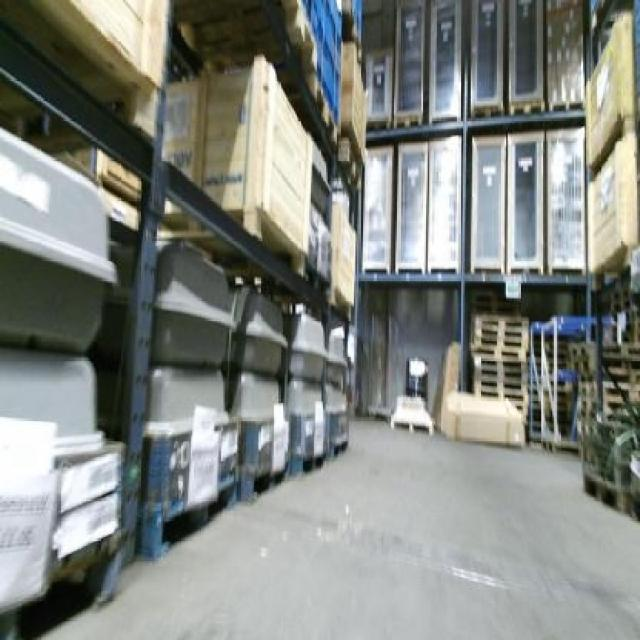floor: (40, 417, 637, 637)
pallets: (0, 127, 114, 349)
